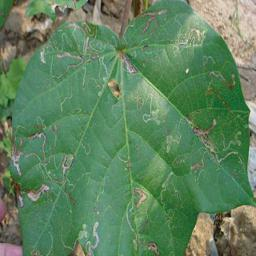liriomyza: (9, 116, 75, 210), (37, 20, 104, 82), (192, 117, 243, 163), (123, 186, 147, 251), (59, 218, 100, 256), (134, 92, 163, 129), (169, 24, 207, 52), (134, 8, 167, 33), (159, 170, 178, 208), (117, 47, 139, 75), (94, 55, 108, 97), (56, 85, 74, 112), (165, 131, 182, 153), (148, 238, 160, 256), (191, 158, 205, 172)
